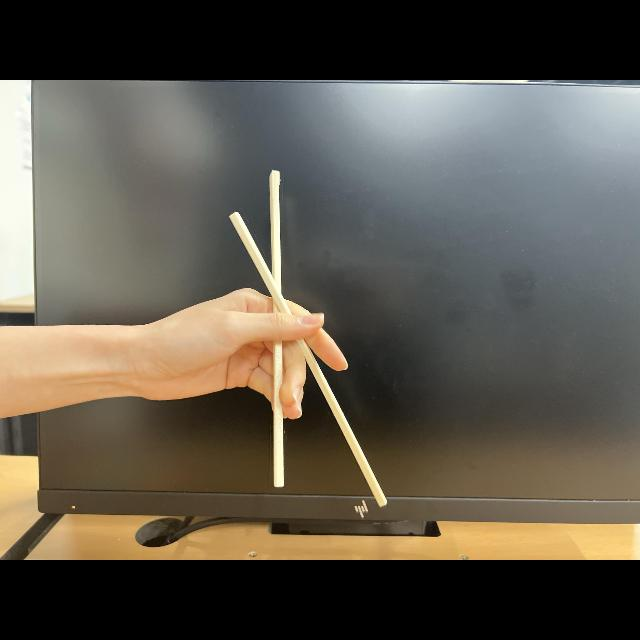stick: (216, 171, 342, 487)
